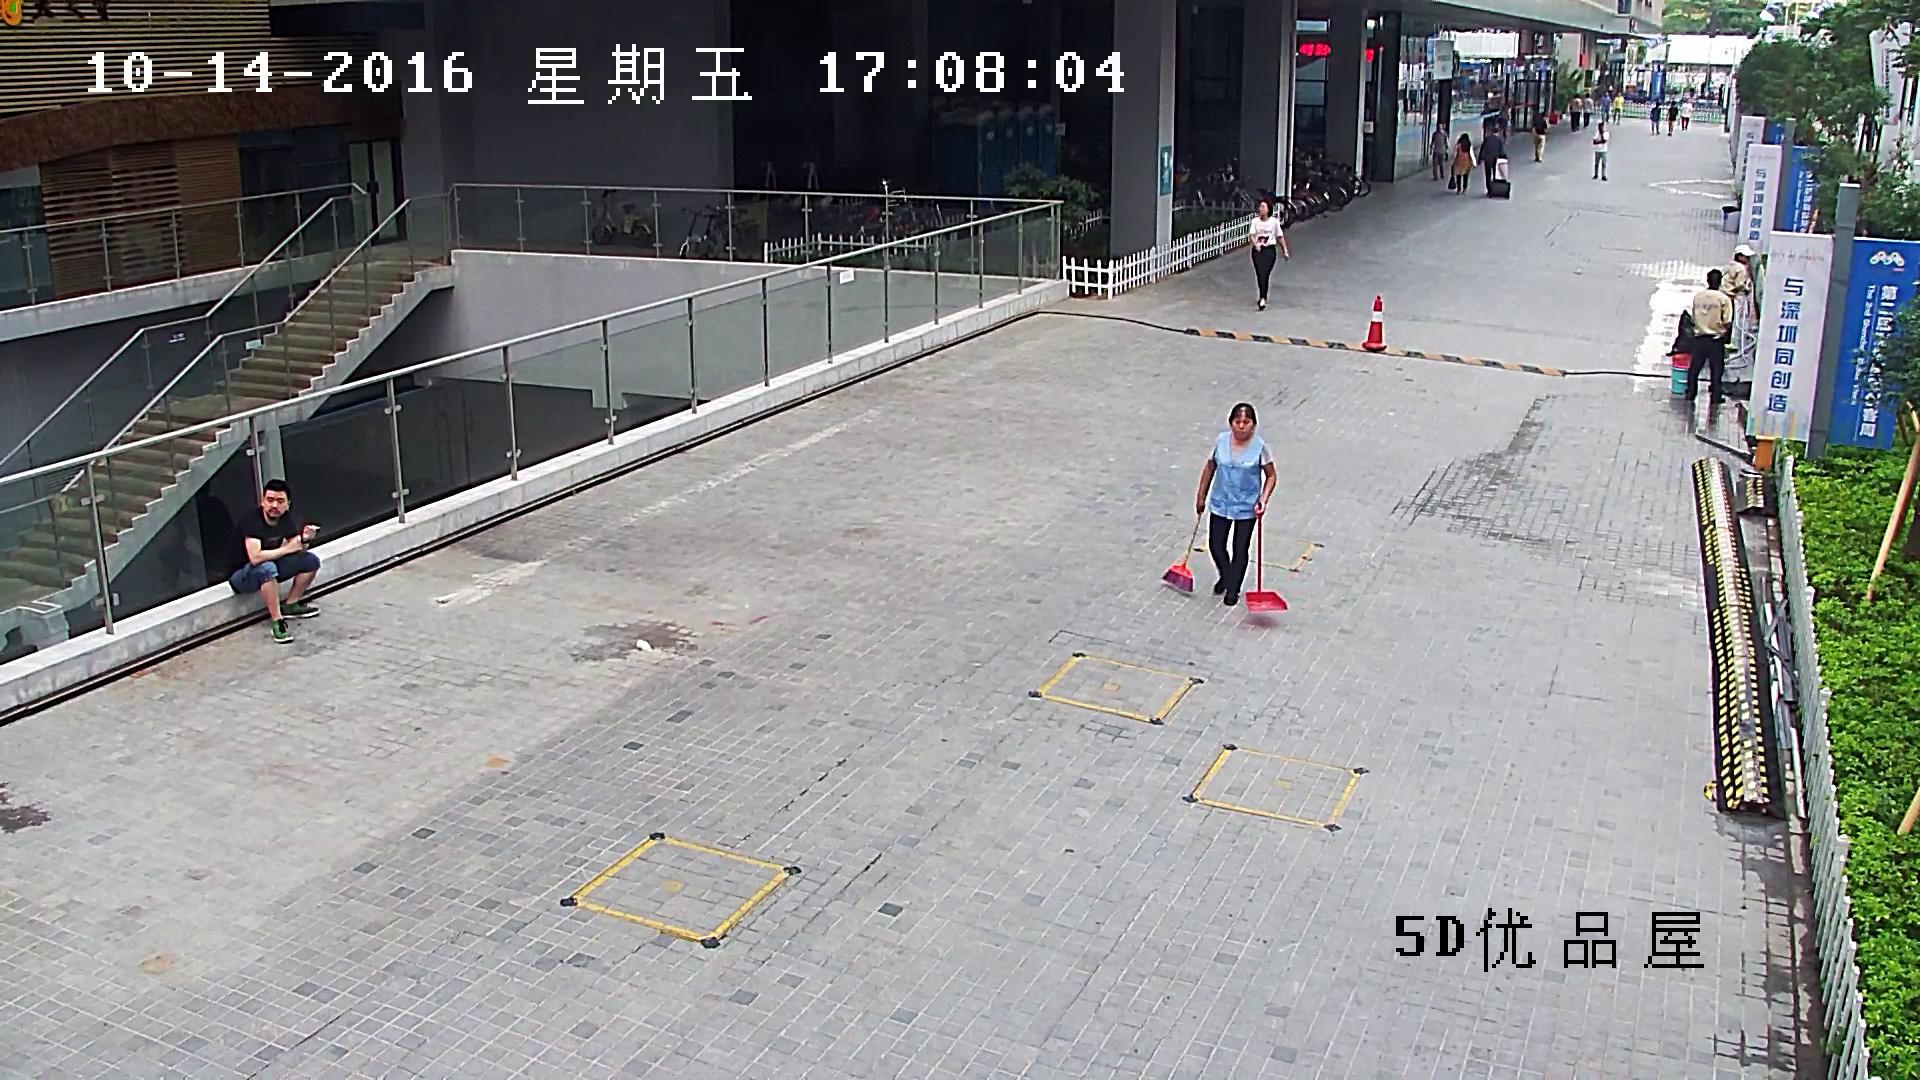person: (1160, 403, 1289, 613), (1196, 403, 1277, 605), (230, 478, 320, 643), (1664, 269, 1733, 403), (1686, 269, 1733, 403), (1247, 200, 1290, 311), (1476, 126, 1511, 199), (1476, 126, 1504, 195), (1720, 243, 1757, 294), (1447, 132, 1476, 195), (1428, 122, 1447, 180), (1591, 122, 1608, 181), (1531, 111, 1547, 163), (1481, 100, 1497, 140), (1497, 102, 1510, 144), (1612, 90, 1624, 126), (1679, 97, 1693, 131), (1864, 118, 1878, 152), (1649, 101, 1661, 135), (1666, 100, 1678, 136), (1569, 93, 1580, 131), (1598, 91, 1609, 122), (1582, 92, 1592, 128)
